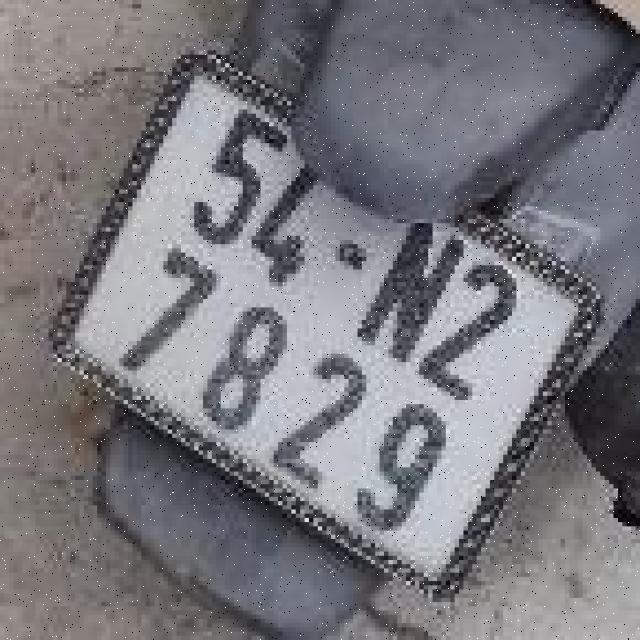2: (401, 243, 547, 418), (258, 339, 393, 501)
4: (230, 133, 365, 306)
5: (175, 92, 301, 266)
7: (97, 232, 234, 389)
8: (180, 285, 305, 447)
9: (337, 385, 461, 550)
N: (346, 200, 481, 377)
